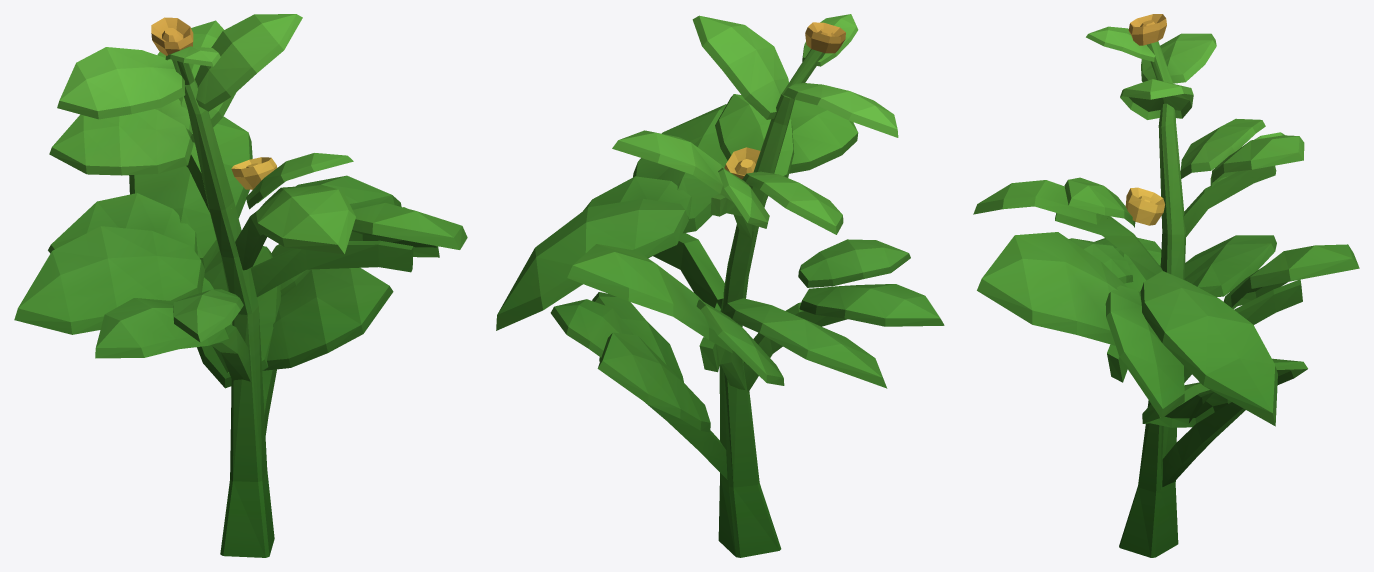
The model's file is crop_potato_stage2.glb.
3 views of the same model, side by side, from view 1: azimuth 30°, elevation 25°; view 2: azimuth 150°, elevation 25°; view 3: azimuth 270°, elevation 25° (orthographic). The views are drawn at different scales.
Visible parts, largest first — view 1: crop_potato_stage2; view 2: crop_potato_stage2; view 3: crop_potato_stage2.
Boxes of the visible parts, x1=… form: crop_potato_stage2: x1=14, y1=14, x2=467, y2=557; crop_potato_stage2: x1=496, y1=14, x2=944, y2=557; crop_potato_stage2: x1=973, y1=14, x2=1359, y2=557.
Bounding box in the file's own units: 0.2536 × 0.34 × 0.241.
1 material, 1 textured.
